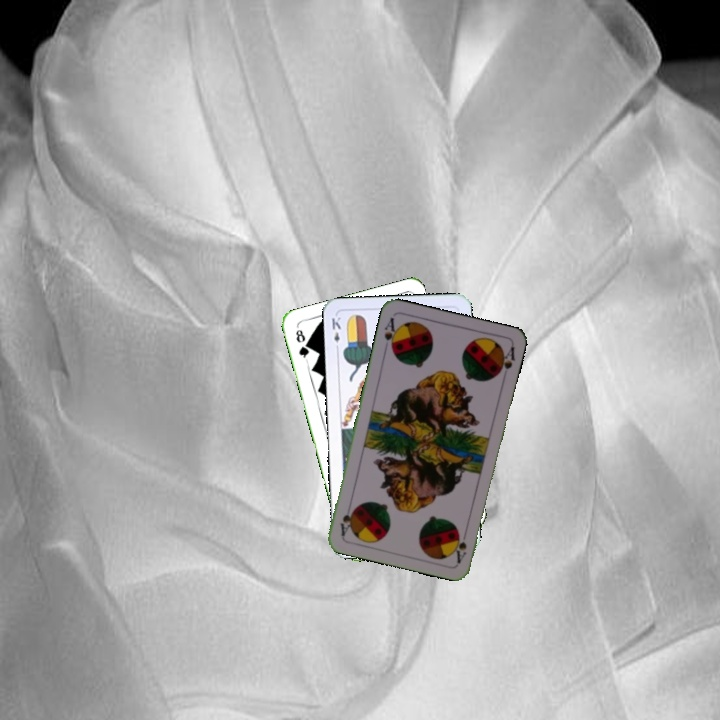EK: (328, 313, 343, 353)
G8: (292, 325, 311, 363)
SA: (380, 313, 401, 355), (451, 525, 470, 565)
